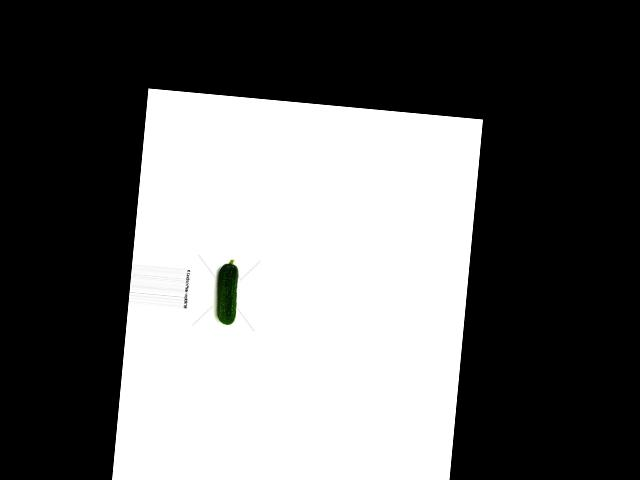cucumber: (214, 258, 240, 326)
